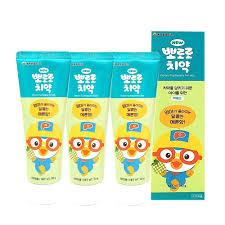toothpaste: (67, 50, 112, 208), (19, 48, 69, 183), (112, 52, 154, 209)
